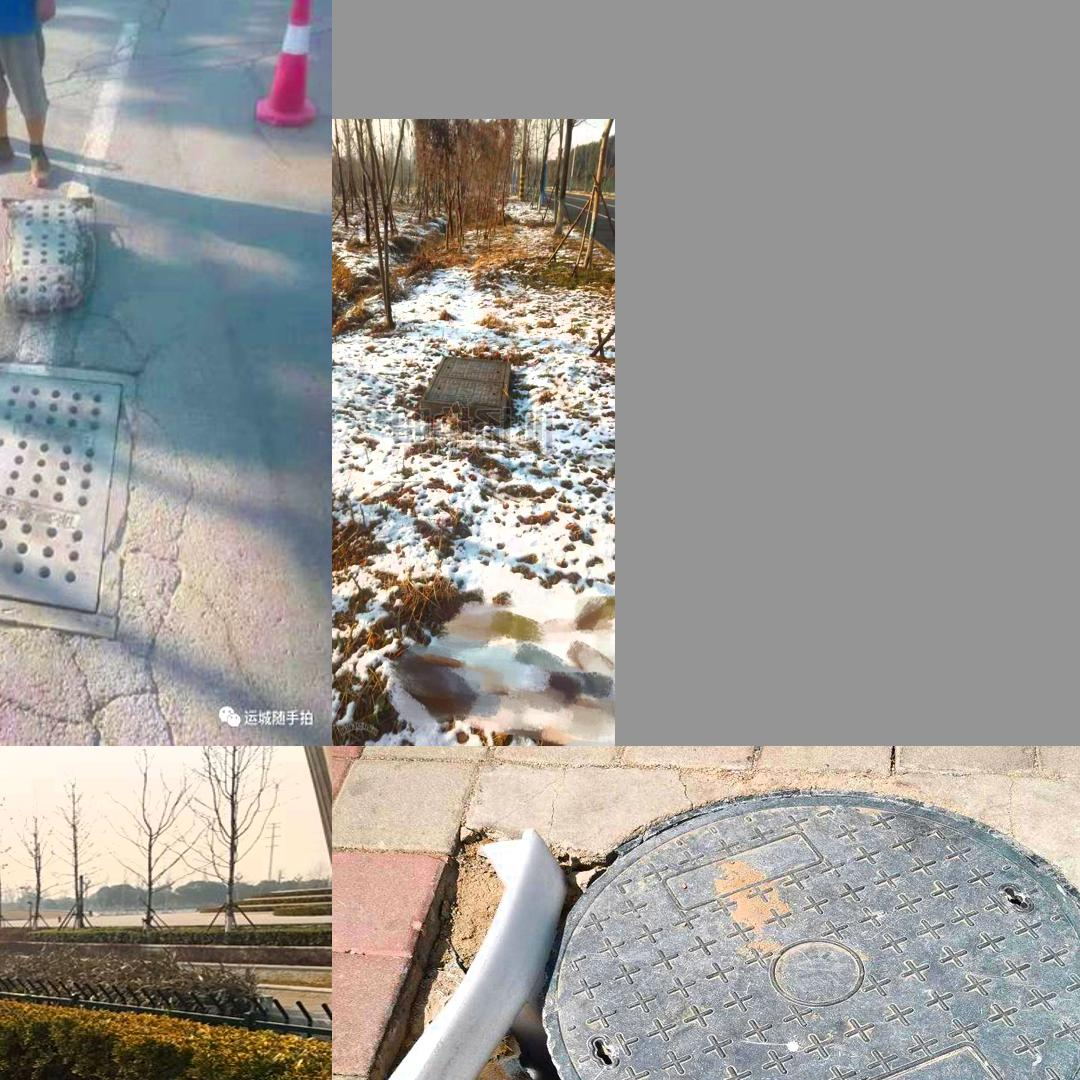circle: (392, 792, 1080, 1080), (0, 327, 205, 716), (413, 355, 514, 432)
